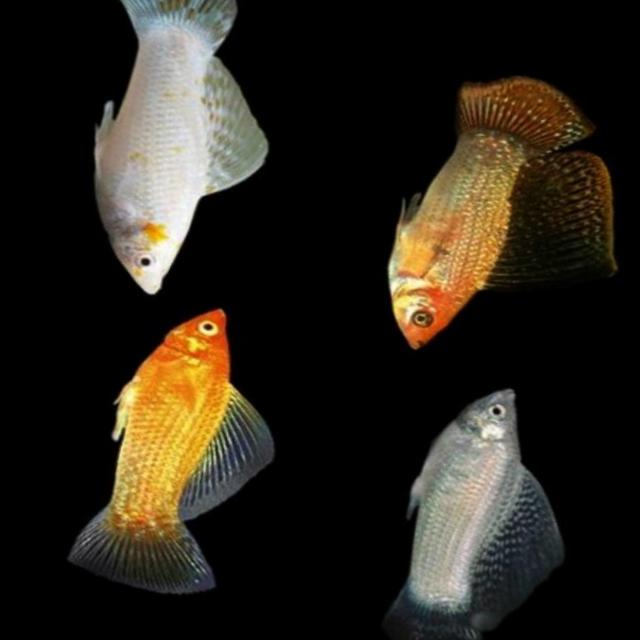PlatyFish: (329, 37, 640, 394), (45, 275, 318, 621), (33, 0, 314, 319), (353, 362, 605, 640)
